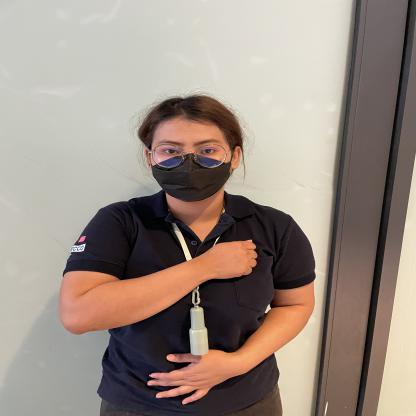Sadness: (154, 225, 270, 299)
